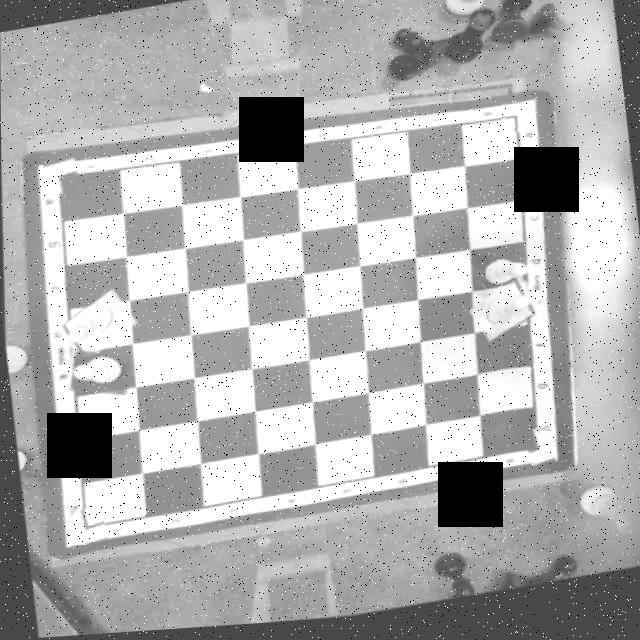chess-table-corners: (64, 504, 106, 550), (38, 156, 79, 201), (518, 432, 554, 479), (496, 106, 532, 144)
